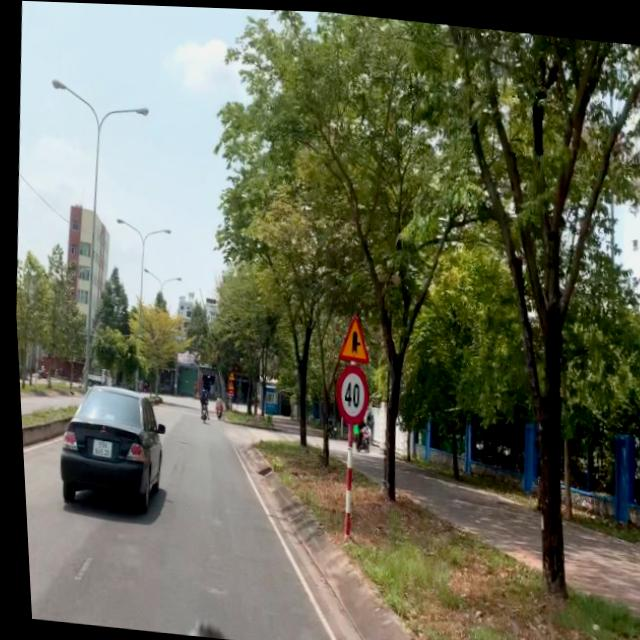Duong giao nhau cung cap: (223, 369, 232, 379)
Giao nhau voi duong khong uu tien ben phai: (332, 308, 369, 361)
Nguoi di bo cat ngang: (223, 380, 231, 388)
Toc do toi da cho phep: (329, 364, 368, 422)
